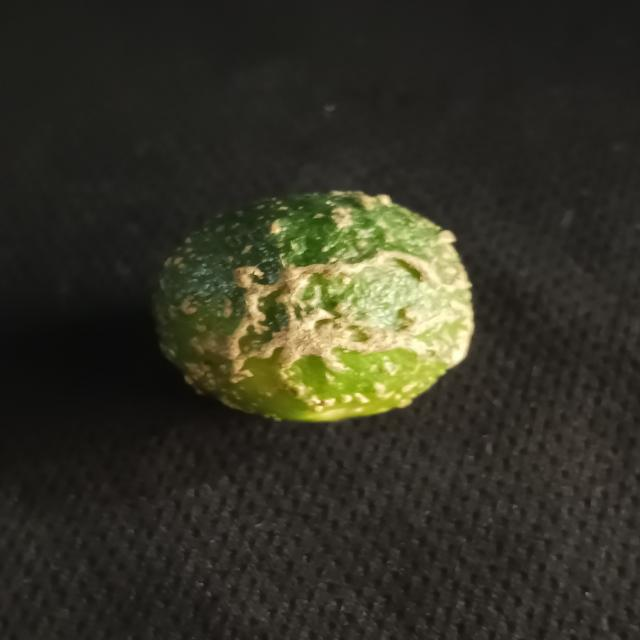scab: (140, 181, 485, 427)
